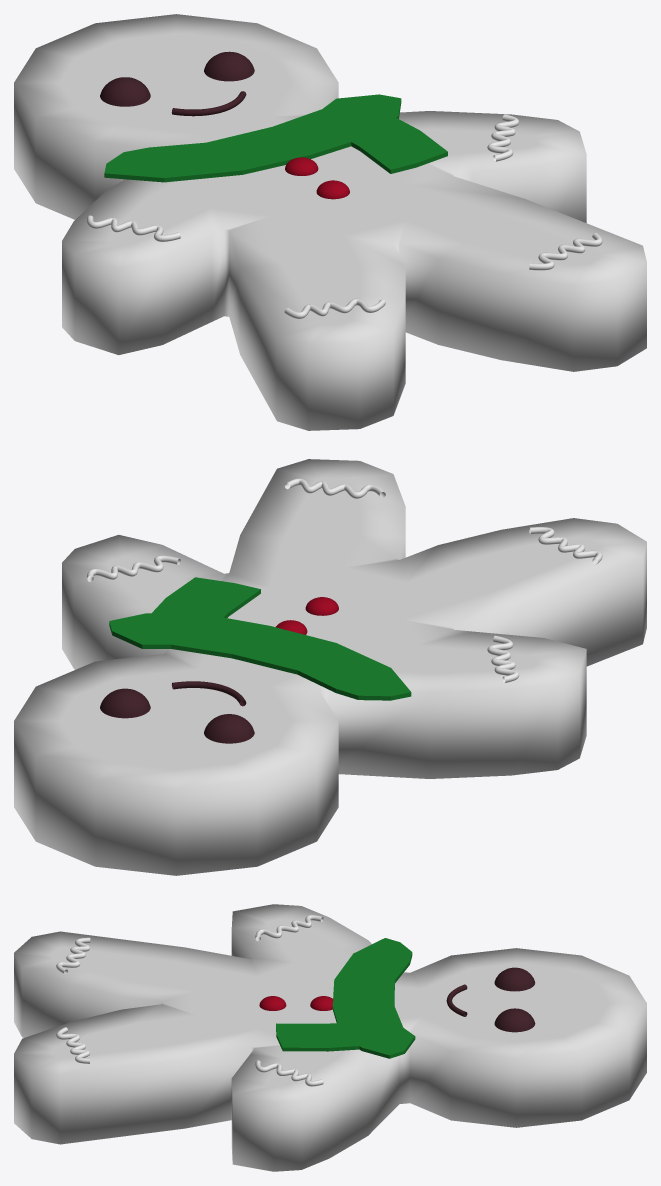
Rendered from ggb4.glb.
3 renders of one model, top to bottom at view 1: azimuth 30°, elevation 25°; view 2: azimuth 150°, elevation 25°; view 3: azimuth 270°, elevation 25°, orthographic. The views are drawn at different scales.
Visible parts, largest first — view 1: Circle.048, Circle.010, Circle.011, Sphere.028, NurbsPath.023, NurbsPath.022; view 2: Circle.048, Circle.010, Circle.011, Sphere.028, NurbsPath.023, NurbsPath.022; view 3: Circle.048, Circle.010, Circle.011, Sphere.028, NurbsPath.023, NurbsPath.022.
Part boxes in pixels (x1,y1,x2,y2): Circle.048: (14, 14, 646, 430); Circle.010: (104, 94, 401, 182); Circle.011: (351, 118, 447, 173); Sphere.028: (100, 51, 254, 106); NurbsPath.023: (86, 114, 519, 241); NurbsPath.022: (284, 233, 602, 318); Circle.048: (14, 459, 646, 875); Circle.010: (109, 613, 411, 700); Circle.011: (152, 577, 260, 617); Sphere.028: (100, 688, 254, 743); NurbsPath.023: (86, 555, 519, 682); NurbsPath.022: (284, 478, 602, 564); Circle.048: (14, 904, 646, 1171); Circle.010: (332, 938, 415, 1058); Circle.011: (276, 1023, 359, 1051); Sphere.028: (494, 967, 535, 1032); NurbsPath.023: (255, 915, 323, 1086); NurbsPath.022: (56, 937, 90, 1063).
Size of the model in its own units: 3.59 by 0.6971 by 4.85.
